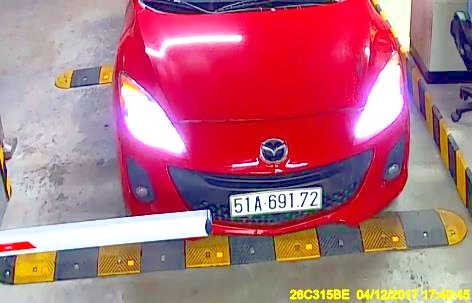plate: (229, 188, 322, 215)
